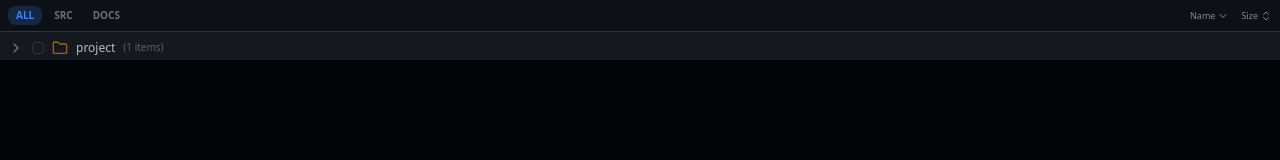
it: FileTree Indexing Scenarios › Root path filtering › should not show nested paths as roots when parent is a root
Expected: the text "project" is shown, top-left (76, 38), bottom-right (115, 56)
// Expand project
Click the button with test id "expand-icon" at (16, 48), box top-left (6, 38), bottom-right (26, 58)
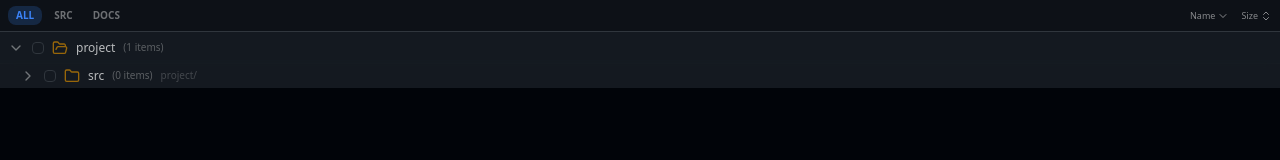
Result: the text "src" is shown at top-left (88, 66), bottom-right (104, 84)
